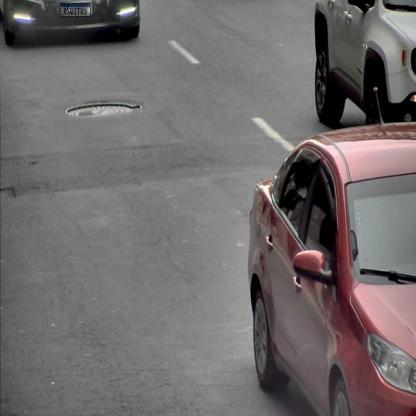PlacaM: (60, 2, 90, 16)
